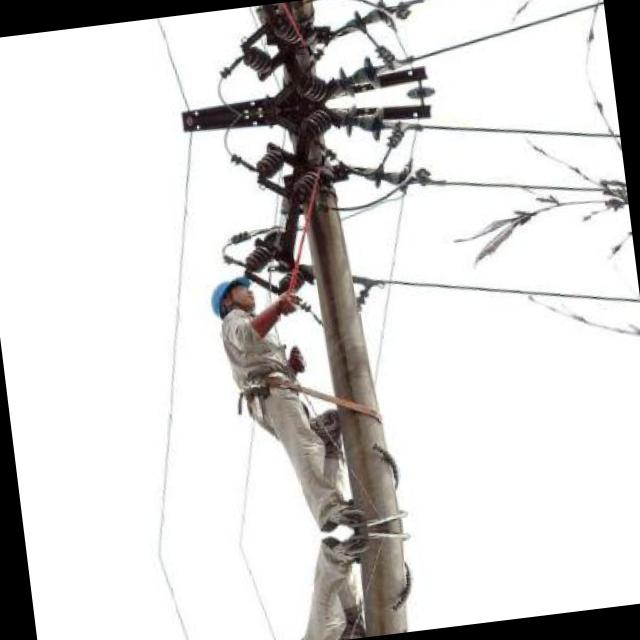helmet: (203, 274, 261, 316)
